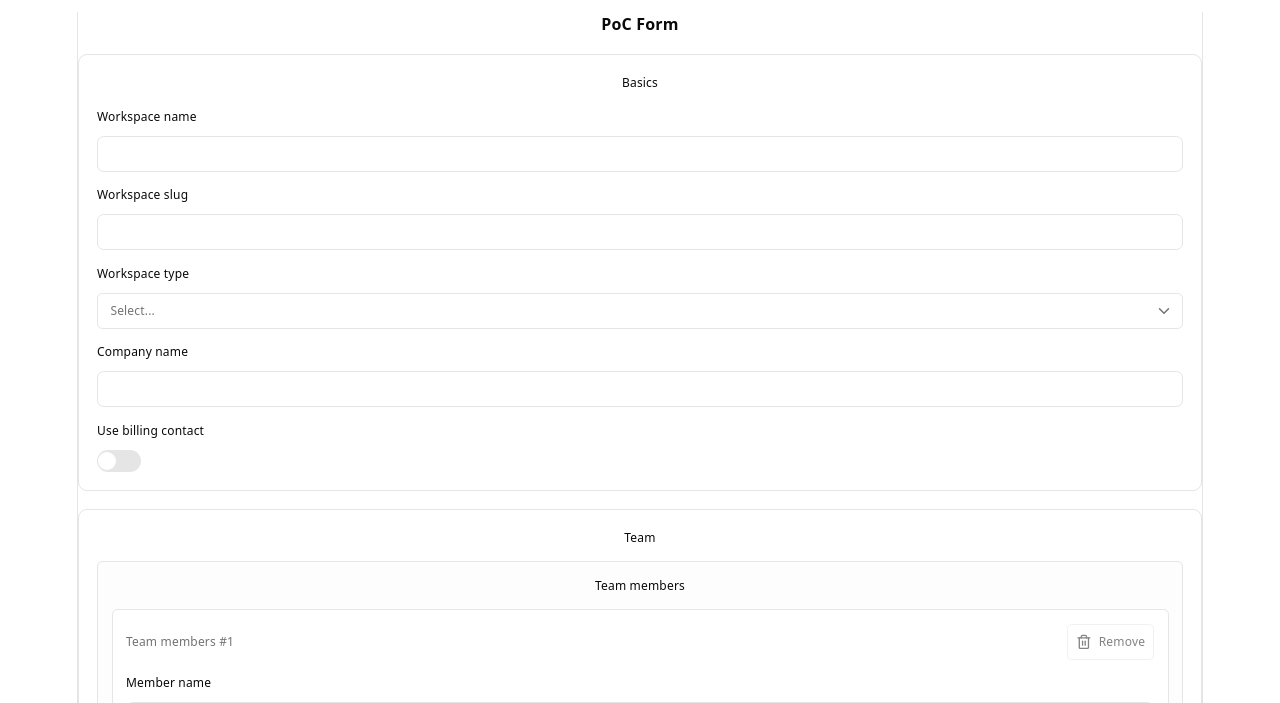
Test: SchemaForm › toggles conditional fields from rule evaluation
Expected: the field labelled "Billing email" is not shown
Click the switch named "Use billing contact".
click(119, 460)  # box [97,450,141,472]
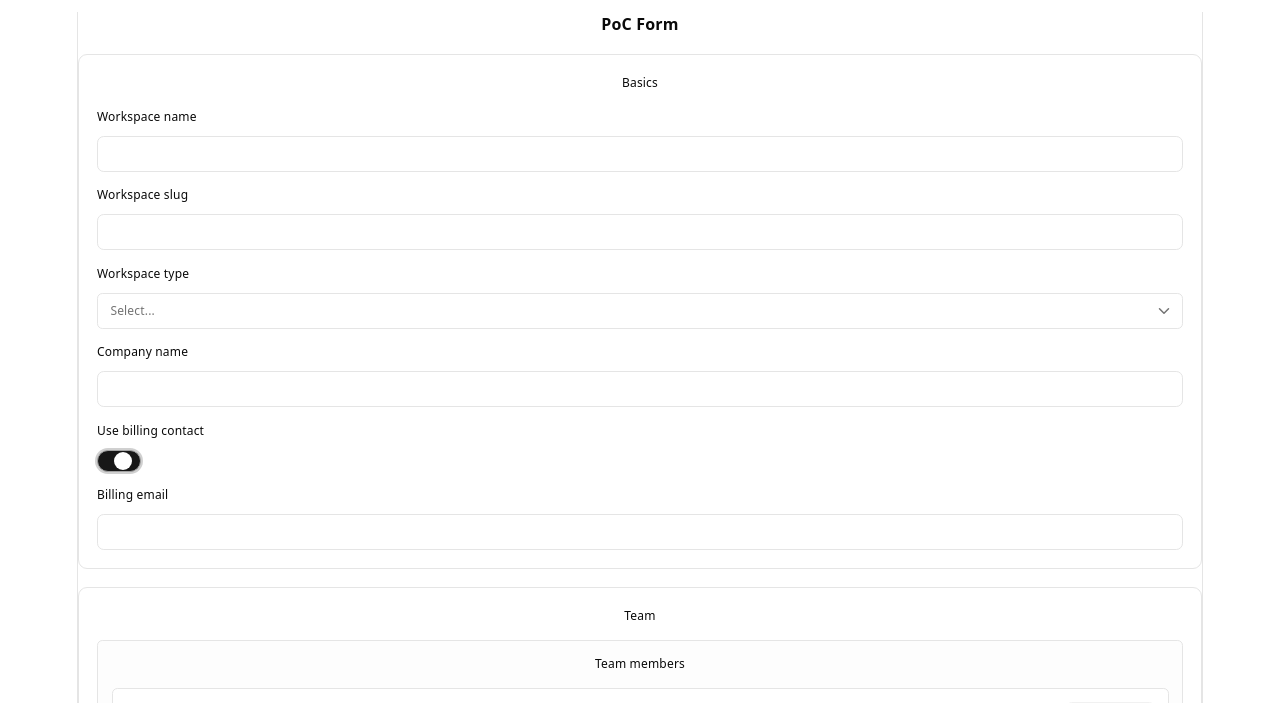
Now the field labelled "Billing email" is shown, box [97,514,1183,550]
